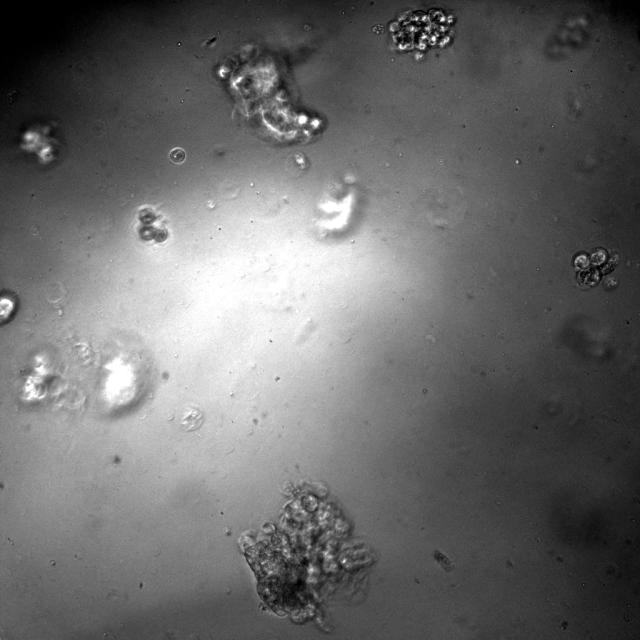organoid: (239, 481, 376, 631), (216, 44, 326, 145), (98, 332, 153, 416), (371, 8, 456, 61), (17, 348, 85, 408), (312, 175, 368, 239), (571, 246, 619, 292), (546, 13, 591, 59), (20, 123, 59, 164), (138, 207, 168, 242), (0, 289, 19, 326), (284, 151, 310, 177), (168, 147, 186, 164)
